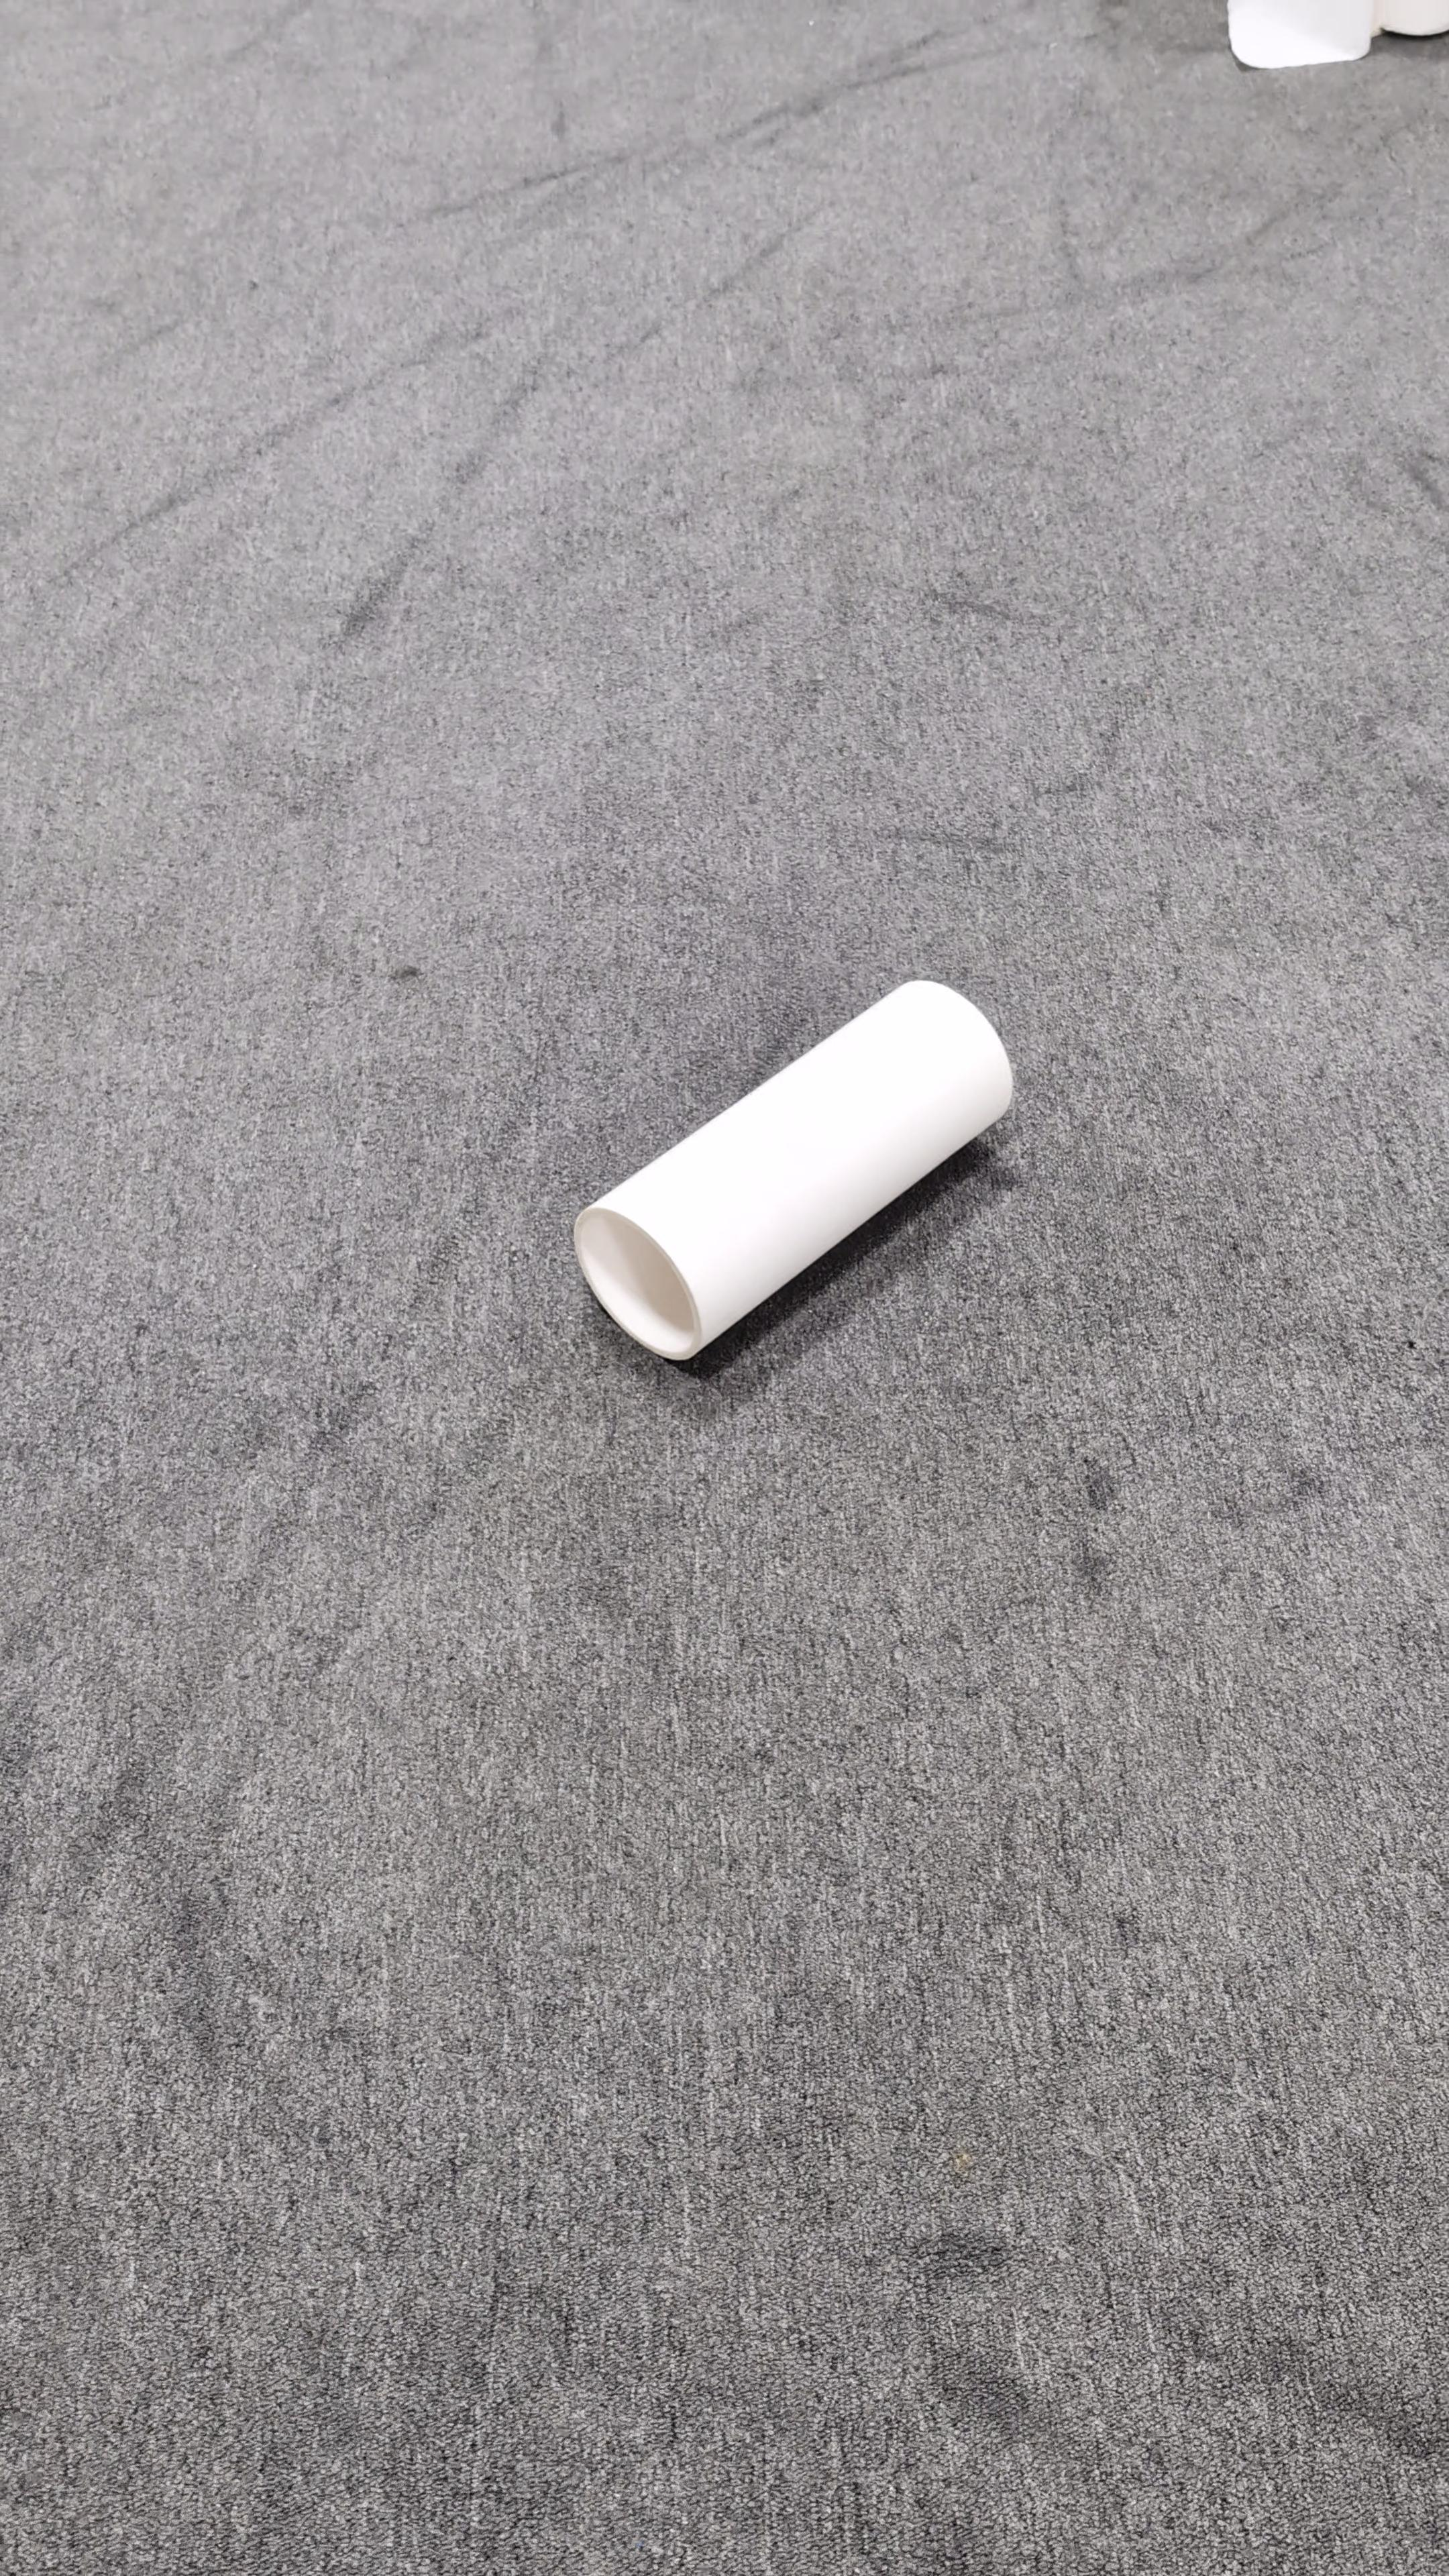coral: (571, 977, 1016, 1361)
